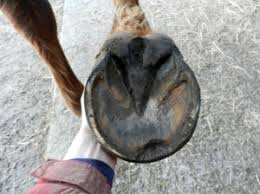horsesole: (80, 51, 201, 164)
